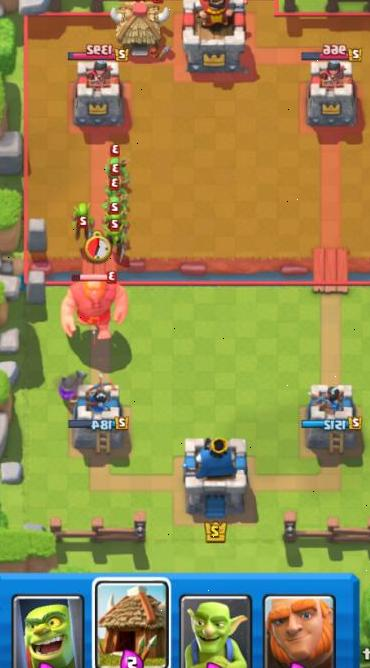enemy_giant: (56, 270, 133, 343)
enemy_goblin_hut: (108, 0, 172, 58)
enemy_spear_goblins: (101, 215, 131, 256), (101, 180, 132, 213), (103, 145, 130, 180), (69, 205, 94, 241)
player_musketeer: (51, 363, 90, 405)
